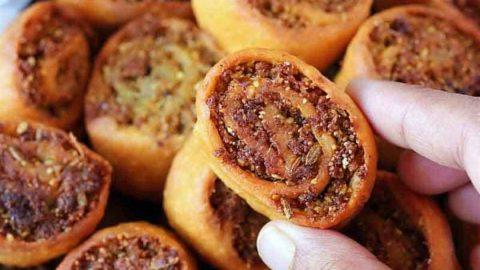bhakarwadi: (1, 1, 344, 216)
